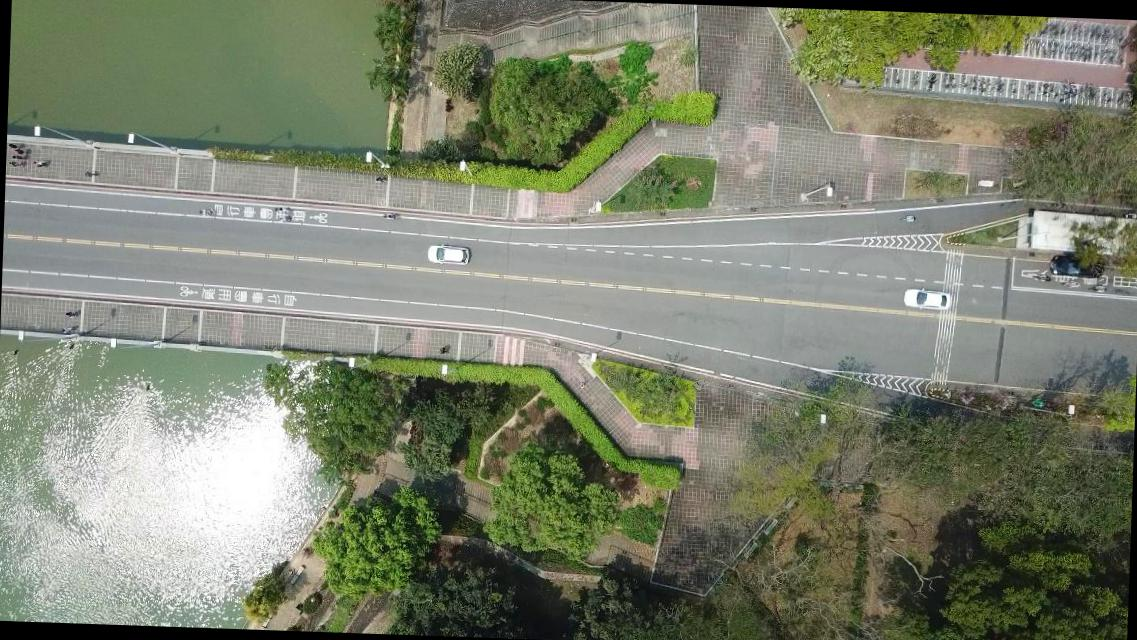vehicle: (1048, 252, 1104, 278), (904, 286, 952, 312), (426, 244, 470, 266)
